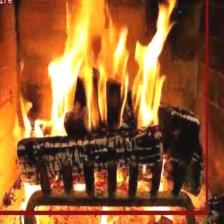fire: (0, 0, 207, 214)
